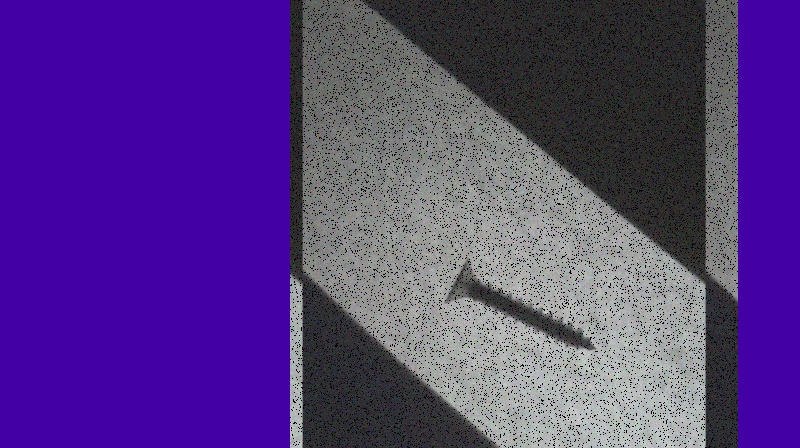S001: (442, 254, 598, 353)
